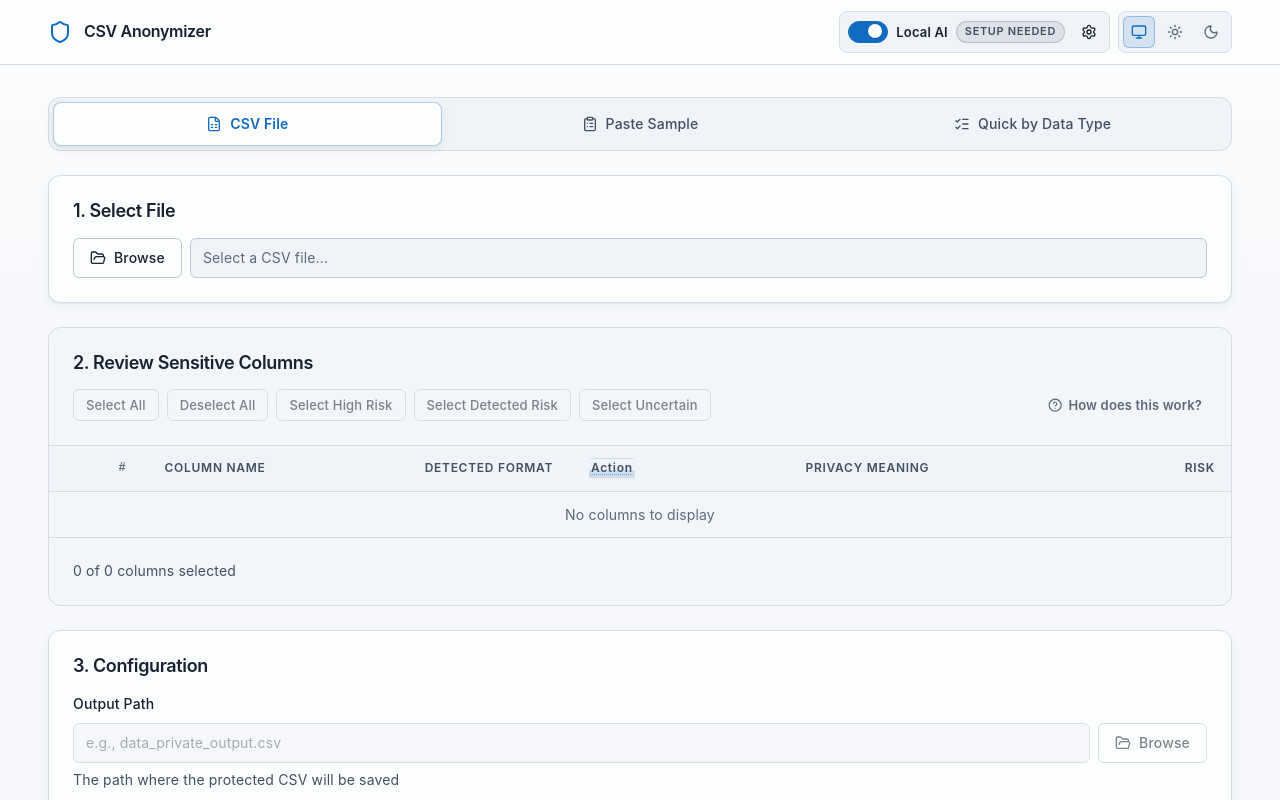
App input mode tabs › blocks Smart replacement when the ready Local AI status is for another model
Click the tab "Quick by Data Type" at x=1033, y=124, box [838,102,1227,146]
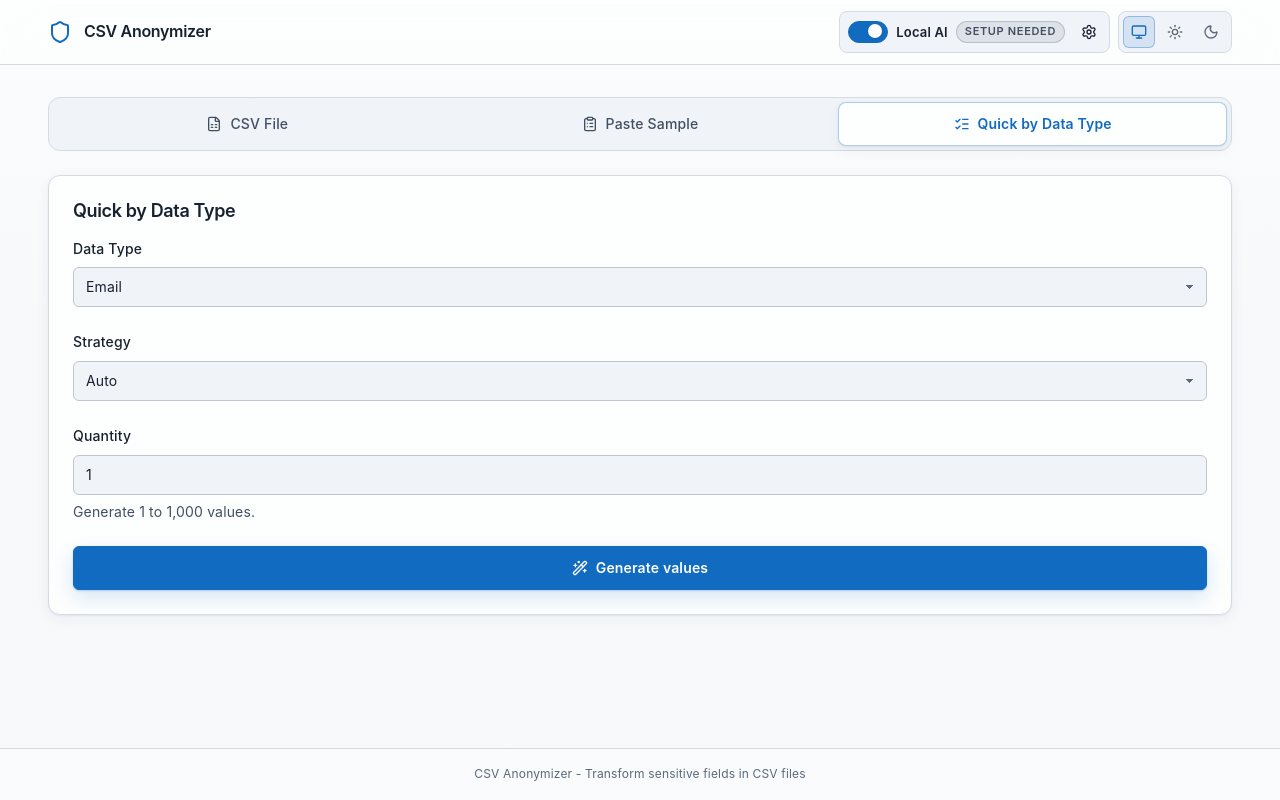
Select "Smart replacement (Local AI)" in the dropdown labelled "Strategy" at x=640, y=381, box [73,361,1207,401]
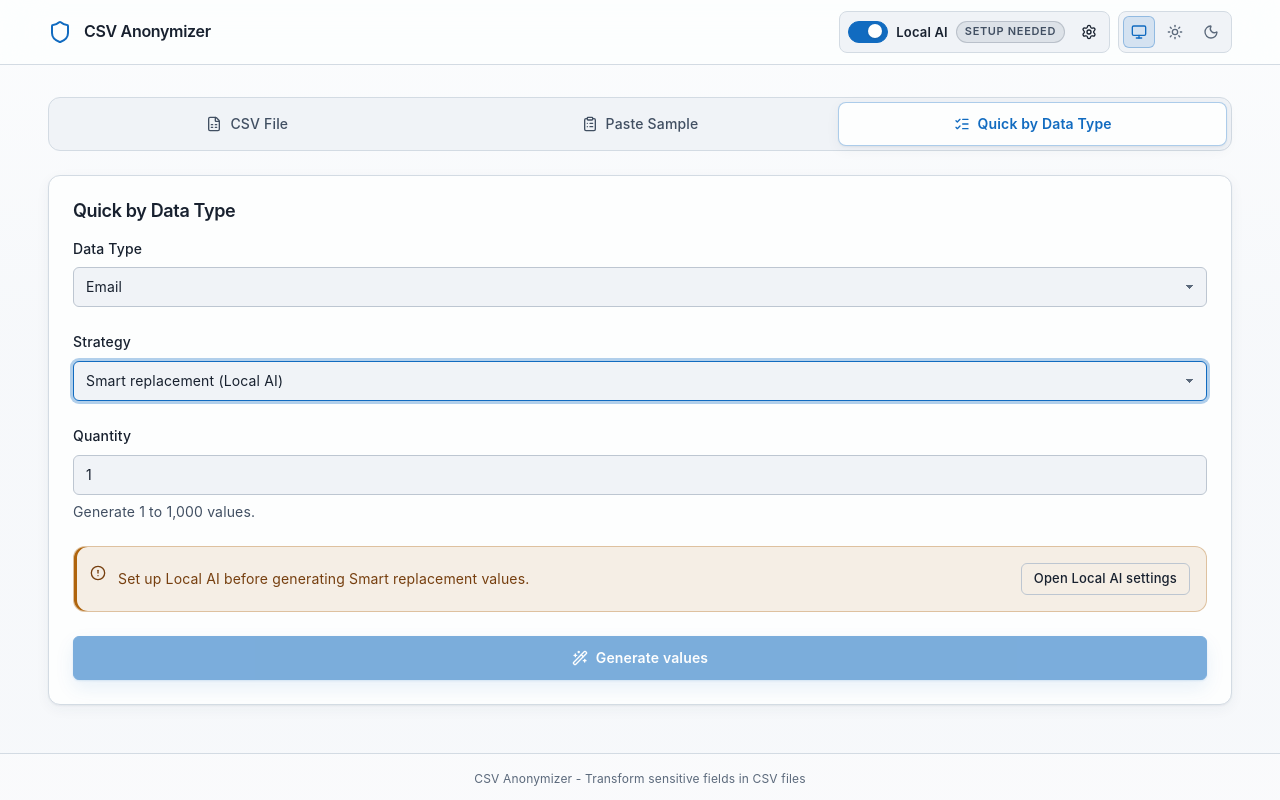
Now the message shows "Set up Local AI before generating Smart replacement values", box [118,570,529,587]
Now the button "Generate values" is disabled, box [73,636,1207,680]
